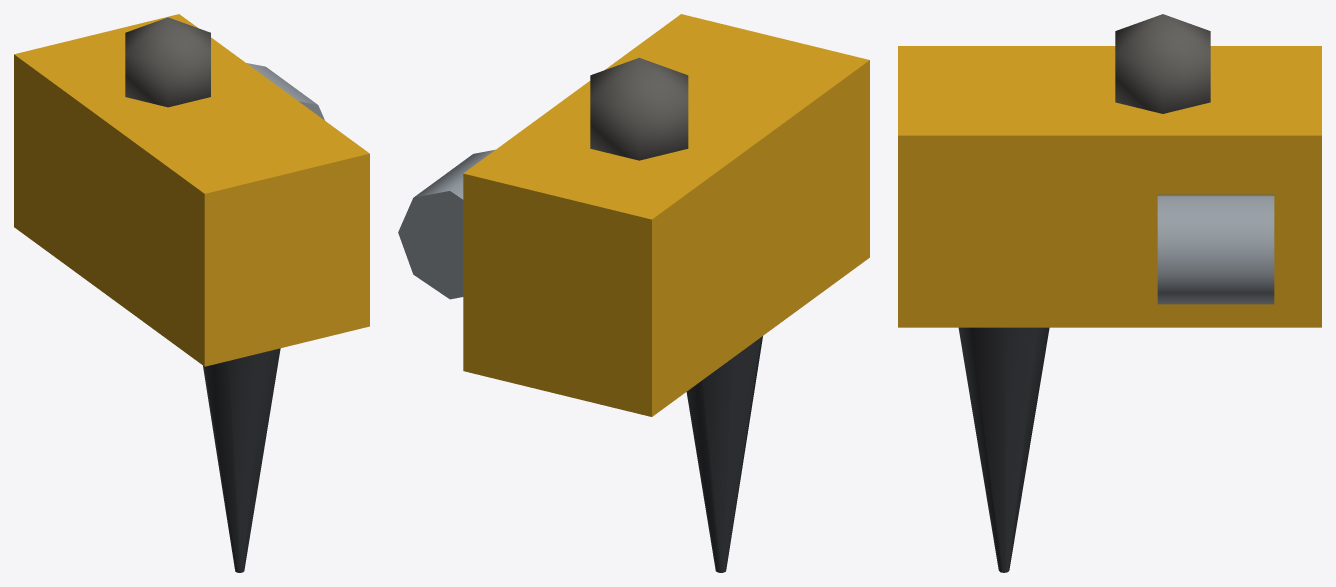
Rendered from space_orbital_extractor_t1.glb.
3 views of the same model, side by side, from view 1: azimuth 30°, elevation 25°; view 2: azimuth 150°, elevation 25°; view 3: azimuth 270°, elevation 25° (orthographic). The views are drawn at different scales.
Visible parts, largest first — view 1: body, drill; view 2: body, drill; view 3: body, drill.
Boxes of the visible parts, bbox=[...] form: body: bbox=[14, 14, 369, 366]; drill: bbox=[203, 348, 280, 572]; body: bbox=[398, 14, 869, 416]; drill: bbox=[686, 336, 762, 572]; body: bbox=[898, 14, 1321, 327]; drill: bbox=[958, 327, 1049, 572].
Size of what is drawn, in the model's own units: 5.9 by 11.6 by 8.
